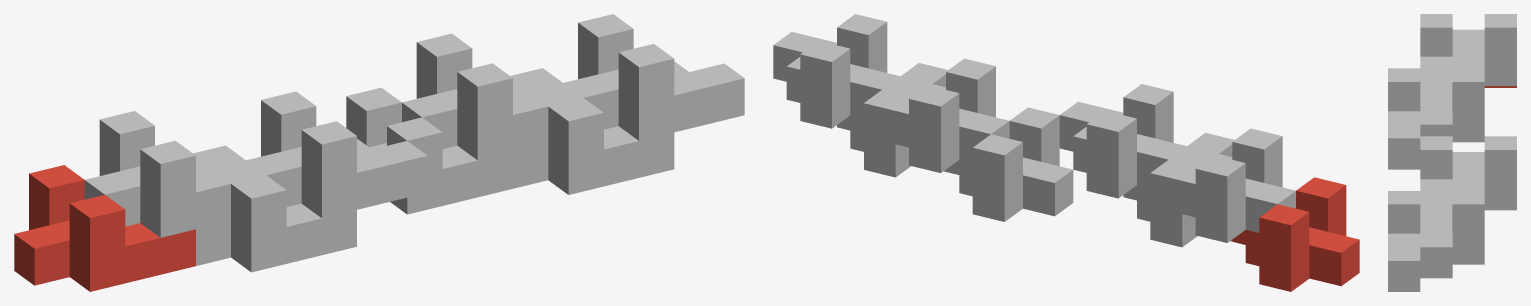
Rendered from tiling.obj.
3 renders of one model, left to right at view 1: azimuth 30°, elevation 25°; view 2: azimuth 150°, elevation 25°; view 3: azimuth 270°, elevation 25°, orthographic. The views are drawn at different scales.
Parts seen in each view (by area): view 1: copy_1_domain_1, copy_1_domain_4, copy_1_domain_8, copy_1_domain_7, copy_1_domain_3, copy_1_domain_6, copy_1_domain_2, copy_1_domain_5; view 2: copy_1_domain_4, copy_1_domain_8, copy_1_domain_5, copy_1_domain_1, copy_1_domain_3, copy_1_domain_7, copy_1_domain_2, copy_1_domain_6; view 3: copy_1_domain_8, copy_1_domain_4, copy_1_domain_7, copy_1_domain_3, copy_1_domain_6, copy_1_domain_2, copy_1_domain_5.
Boxes of the visible parts, box(x1,y1,x2,y2) form: copy_1_domain_1: box(14, 165, 195, 291); copy_1_domain_4: box(246, 91, 427, 218); copy_1_domain_8: box(563, 14, 744, 140); copy_1_domain_7: box(402, 33, 582, 160); copy_1_domain_3: box(84, 111, 265, 237); copy_1_domain_6: box(510, 68, 674, 194); copy_1_domain_2: box(193, 145, 356, 272); copy_1_domain_5: box(346, 87, 512, 214); copy_1_domain_4: box(1059, 84, 1186, 198); copy_1_domain_8: box(773, 14, 899, 128); copy_1_domain_5: box(946, 107, 1073, 221); copy_1_domain_1: box(1232, 177, 1359, 291); copy_1_domain_3: box(1169, 128, 1295, 242); copy_1_domain_7: box(882, 58, 1009, 172); copy_1_domain_2: box(1123, 132, 1234, 247); copy_1_domain_6: box(837, 63, 947, 177); copy_1_domain_8: box(1388, 191, 1484, 289); copy_1_domain_4: box(1388, 68, 1484, 167); copy_1_domain_7: box(1420, 136, 1516, 208); copy_1_domain_3: box(1420, 14, 1516, 85); copy_1_domain_6: box(1388, 262, 1484, 291); copy_1_domain_2: box(1388, 140, 1484, 169); copy_1_domain_5: box(1484, 208, 1516, 210).
Size of the model in its own units: 19 by 3 by 4.
